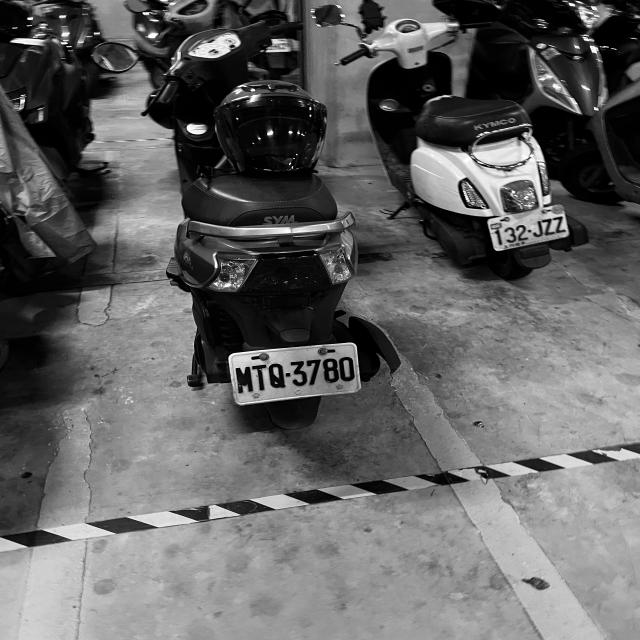-: (285, 371, 291, 377), (527, 228, 533, 233)
0: (338, 354, 356, 382)
1: (494, 228, 504, 246)
2: (515, 224, 529, 242)
3: (291, 358, 307, 386), (503, 225, 518, 244)
7: (307, 358, 321, 386)
8: (322, 356, 340, 384)
J: (532, 218, 544, 238)
M: (232, 363, 256, 395)
Q: (268, 362, 285, 388)
T: (251, 363, 268, 391)
Z: (552, 214, 567, 235), (541, 217, 556, 236)
plate: (230, 353, 360, 396), (488, 206, 568, 251)
